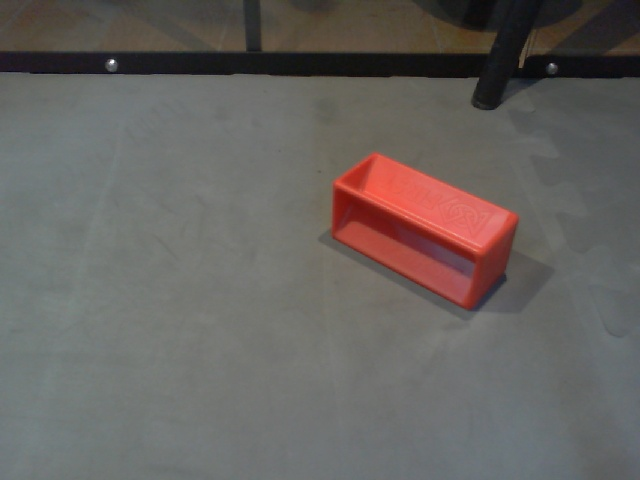RedSample: (327, 150, 525, 313)
